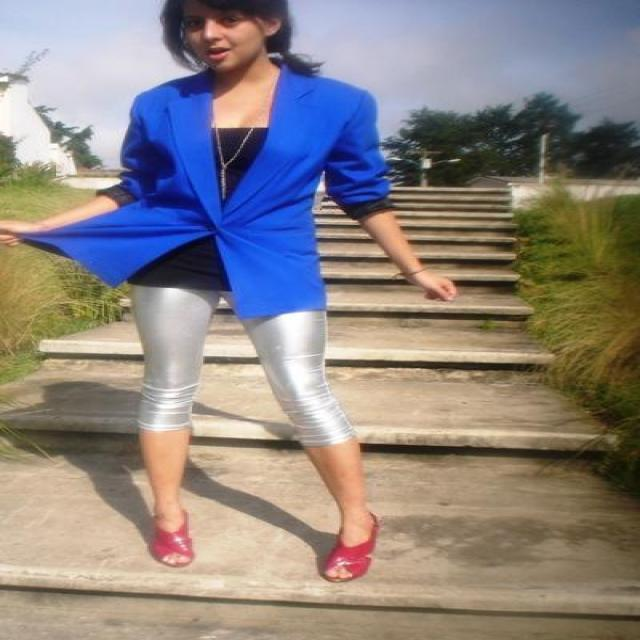jacket: (19, 67, 408, 317)
pants: (115, 280, 357, 447)
shirt: (134, 128, 268, 290)
shoe: (146, 526, 372, 581)
